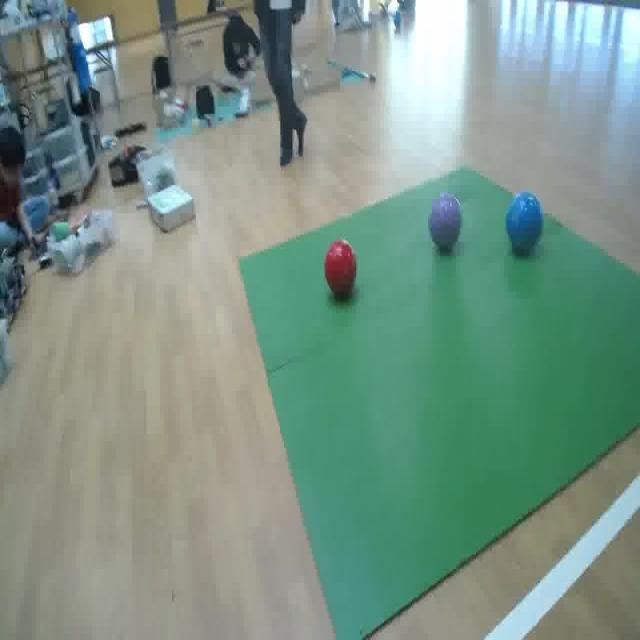blue_ball: (506, 191, 544, 254)
purple_ball: (428, 195, 462, 253)
red_ball: (325, 240, 357, 299)
